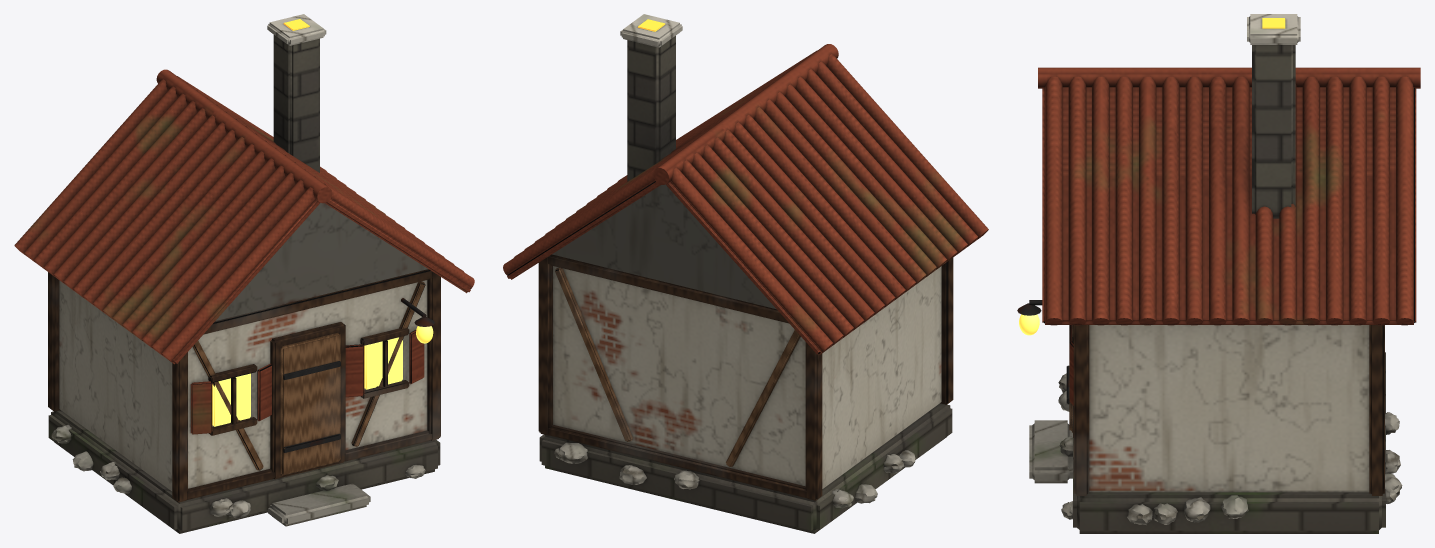
The model's file is cenario_casa_pequena.glb.
The picture shows the model from 3 angles, left to right: view 1: azimuth 30°, elevation 25°; view 2: azimuth 150°, elevation 25°; view 3: azimuth 270°, elevation 25°; orthographic projection. The views are drawn at different scales.
Parts seen in each view (by area): view 1: cenario_casa_pequena, cenario_casa_pequena_porta; view 2: cenario_casa_pequena; view 3: cenario_casa_pequena.
Part boxes in pixels (x1,y1,x2,y2): cenario_casa_pequena: (14, 14, 474, 533); cenario_casa_pequena_porta: (280, 332, 340, 475); cenario_casa_pequena: (503, 14, 988, 533); cenario_casa_pequena: (1017, 14, 1420, 533).
Size of the model in its own units: 4.91 by 6.07 by 4.64.
Materials: 4 (2 with a texture image).
